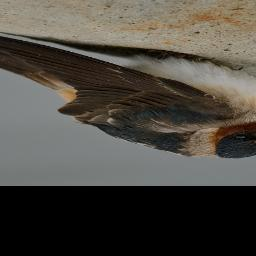Swallow: (0, 28, 256, 159)
